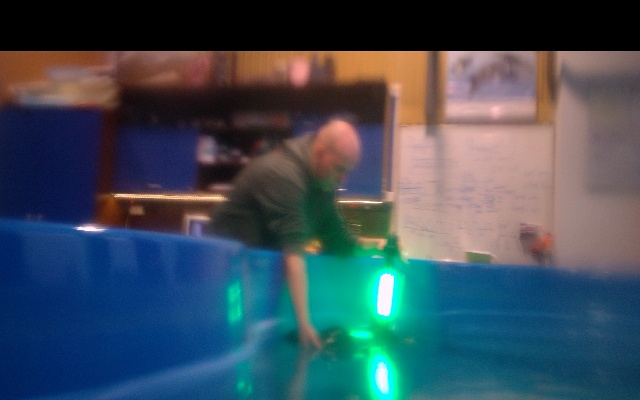green: (378, 270, 394, 328)
